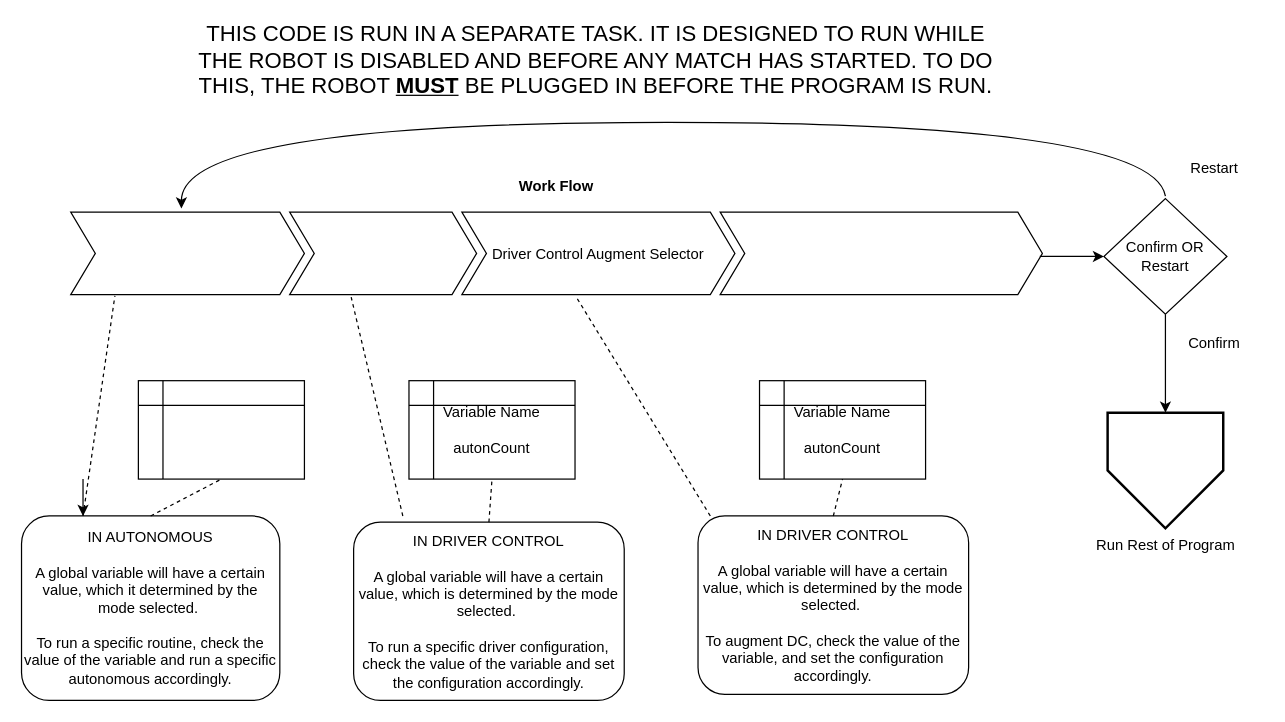
Some shapes in this 1285 by 722 pixel diagram are drawn without their labels. The centre of each missing label's shape, as x and y in pixels:
Autonomous Selector: (x=186, y=253)
Driver Selector: (x=382, y=253)
Review: (x=880, y=253)
Variable Name count: (x=220, y=429)
